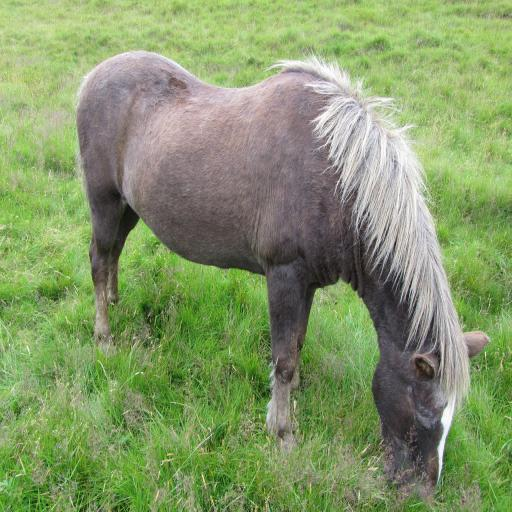Horse: (72, 45, 492, 505)
